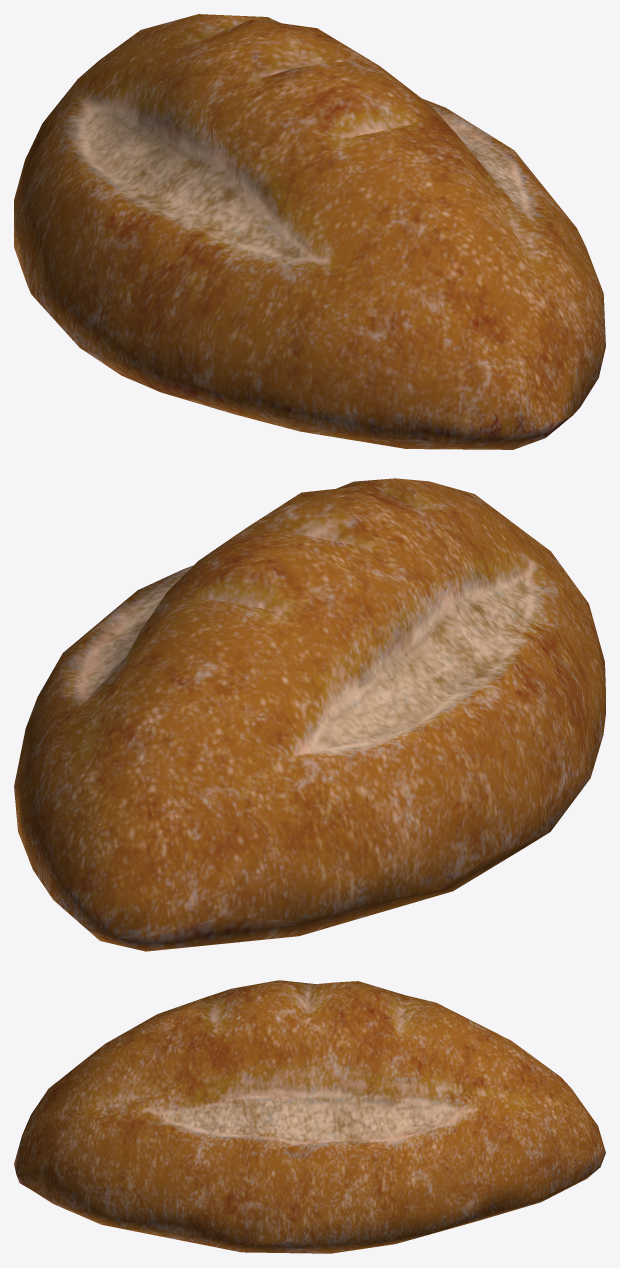
File: Bread_27.obj
3 views of the same model, one above another, from view 1: azimuth 30°, elevation 25°; view 2: azimuth 150°, elevation 25°; view 3: azimuth 270°, elevation 25° (orthographic). The views are drawn at different scales.
Visible parts, largest first — view 1: loafbread_c_mesh; view 2: loafbread_c_mesh; view 3: loafbread_c_mesh.
Part boxes in pixels (bbox=[...]): loafbread_c_mesh: bbox=[14, 14, 605, 449]; loafbread_c_mesh: bbox=[14, 478, 605, 951]; loafbread_c_mesh: bbox=[14, 980, 605, 1253].
Size of the model in its own units: 0.2105 by 0.1239 by 0.3274.
